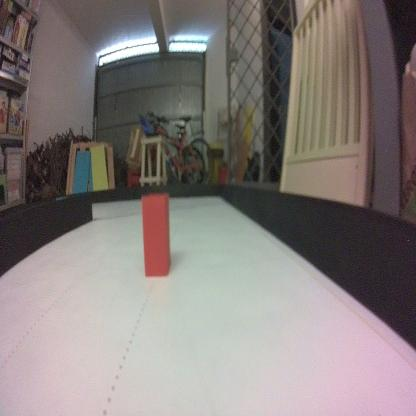red: (140, 191, 172, 277)
